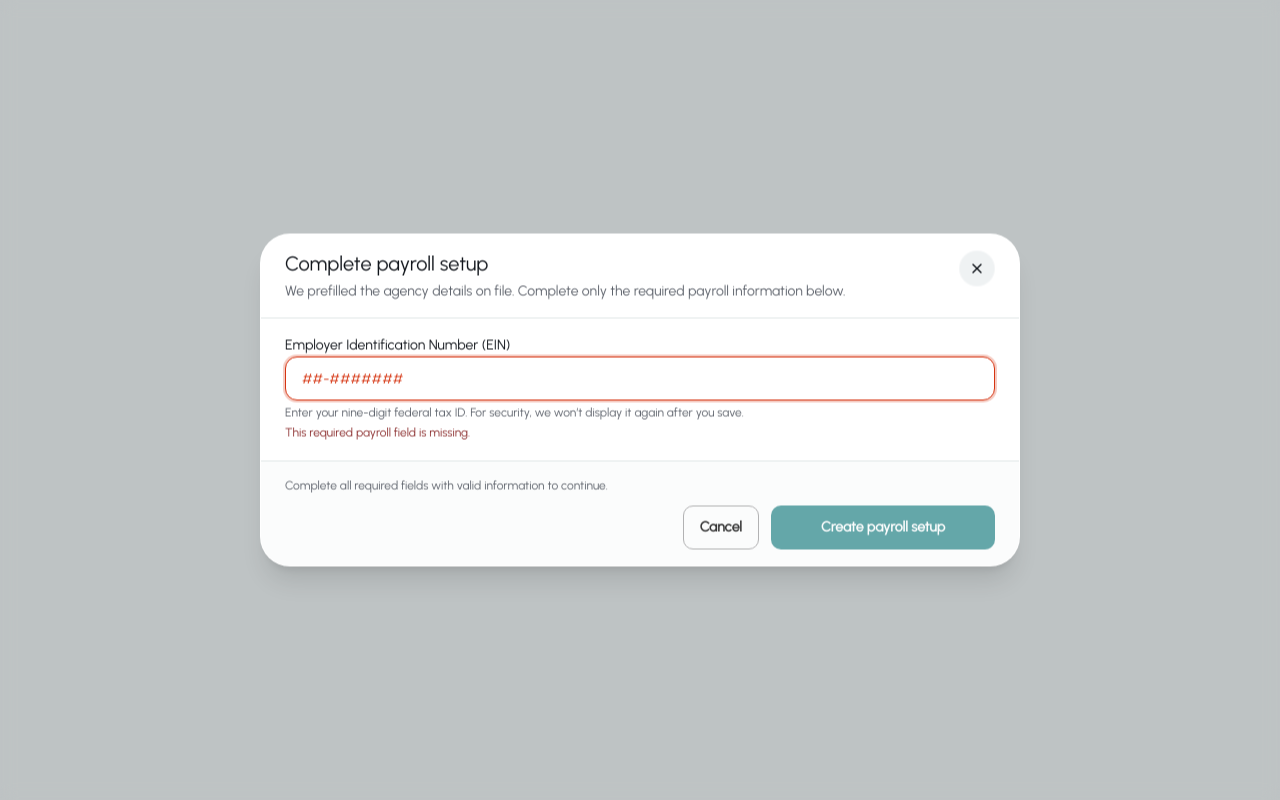
Test: AgencyPayrollBootstrapModal › clears a server-reported EIN error after the value is corrected
In the field labelled "Employer Identification Number (EIN)": (640, 378) [285,356,995,400], type "12-3456789"
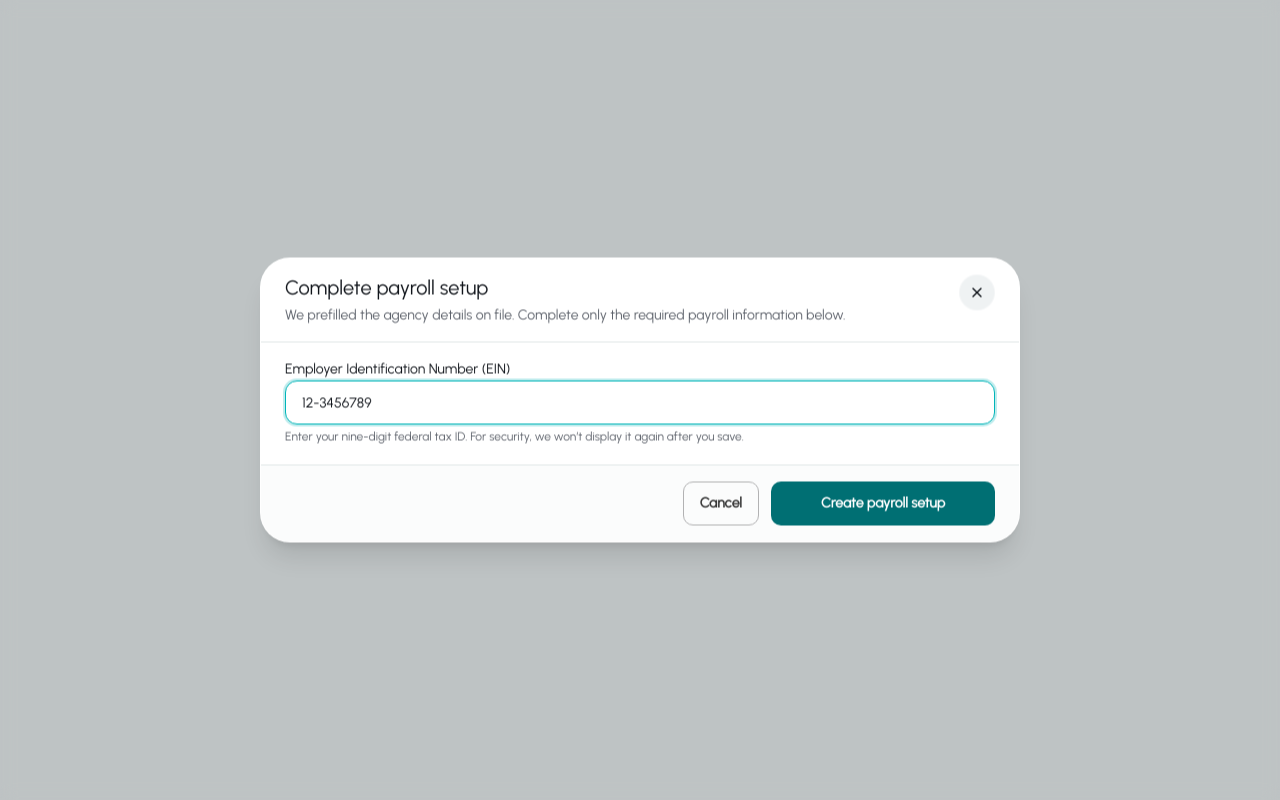
Expected: the text "This required payroll field is missing." is gone
